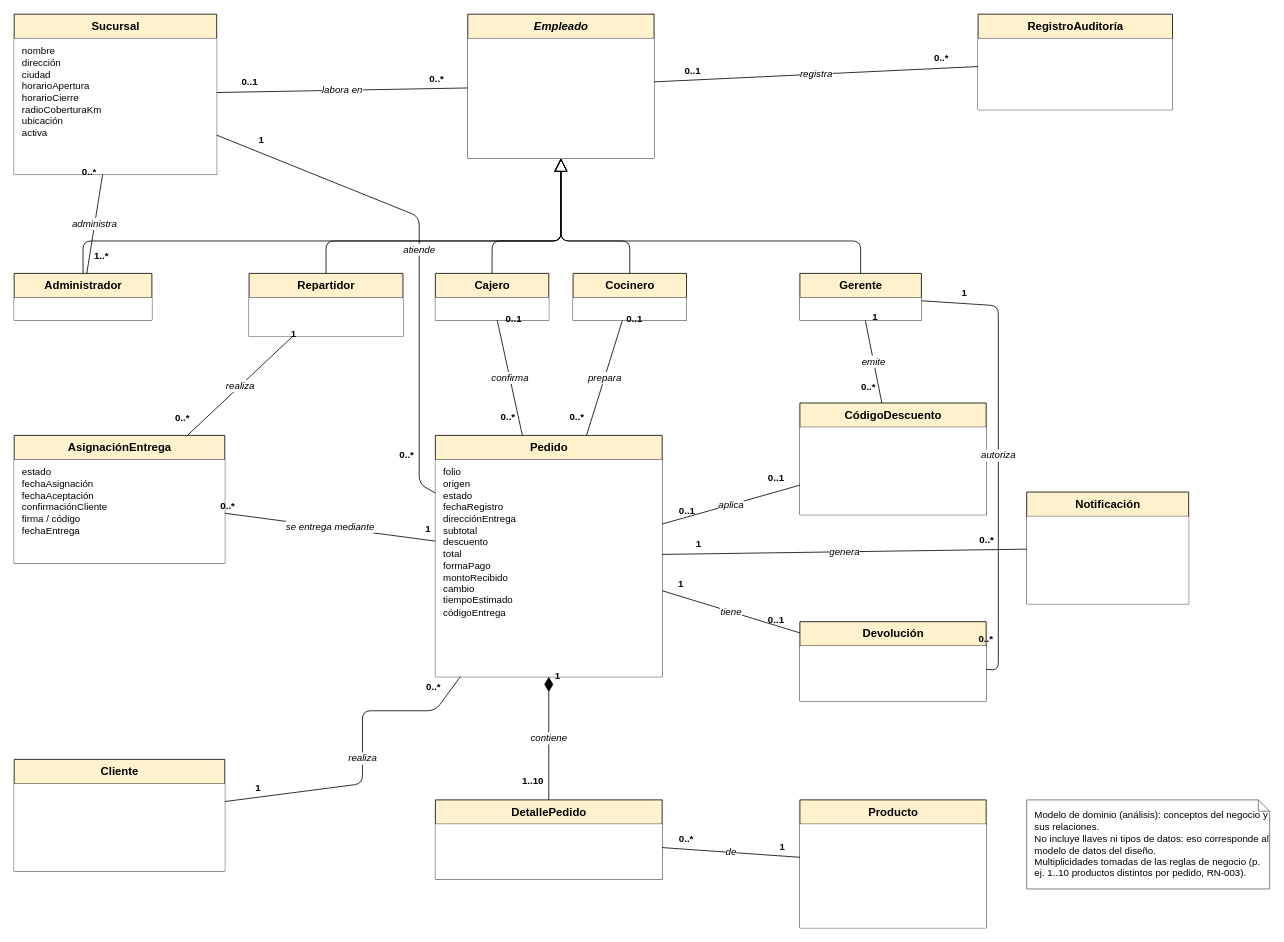
The diagram is 1284 pixels wide and 942 high, and some of its shapes have lost their labels. Each missing label, with the centre of its shape:
"acción entidad detalle fechaHora" goes at (1075,73).
"cantidad precioUnitario importe" goes at (548,851).
"código tipo valor vigencia usado" goes at (892,470).
"disponible ubicaciónActual" goes at (326,316).
"motivo acciónCorrectiva fecha" goes at (892,673).
"nombre apellidos teléfono puesto usuario bloqueado activo" goes at (560,98).
"nombre categoría tamaño precio disponible códigoQR" goes at (892,875).
"nombre teléfono dirección ubicación tieneCuenta" goes at (119,827).
"tipoEvento mensaje canal fecha leída" goes at (1107,559).
